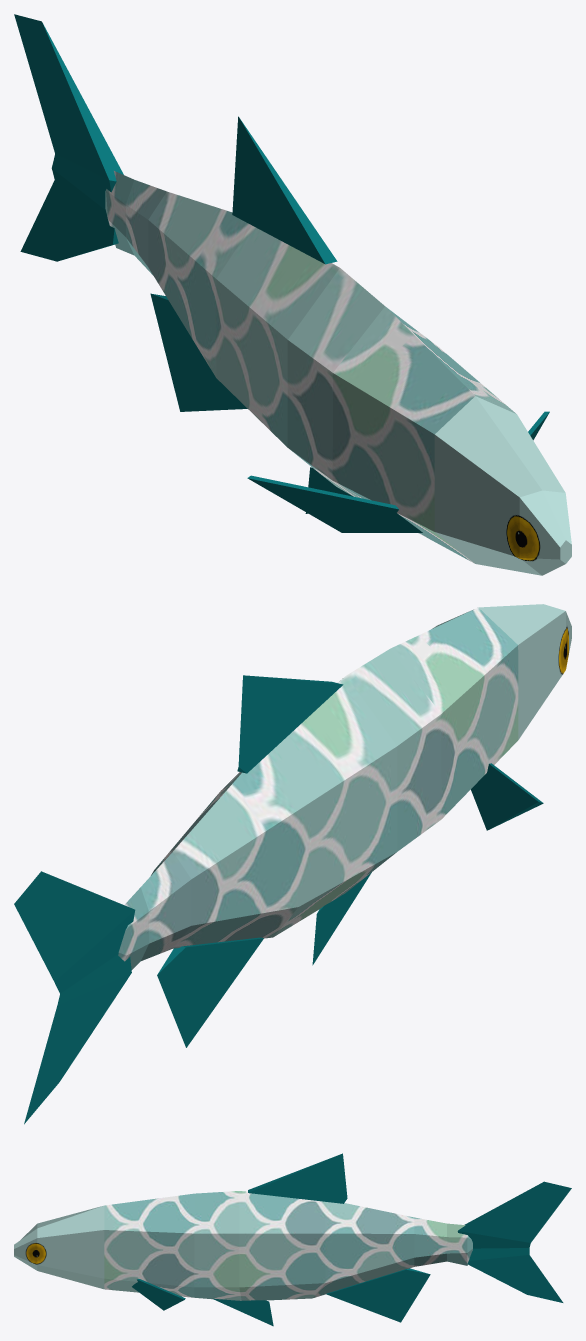
File: Raw Fish.fbx
The picture shows the model from 3 angles, top to bottom: view 1: azimuth 30°, elevation 25°; view 2: azimuth 150°, elevation 25°; view 3: azimuth 270°, elevation 25°; orthographic projection. The views are drawn at different scales.
Parts seen in each view (by area): view 1: fin5; view 2: fin5; view 3: fin5.
Part boxes in pixels (x1,y1,x2,y2): fin5: (14, 14, 571, 575); fin5: (14, 604, 571, 1124); fin5: (14, 1153, 571, 1326).
Size of the model in its own units: 18.67 by 20.45 by 59.57.
